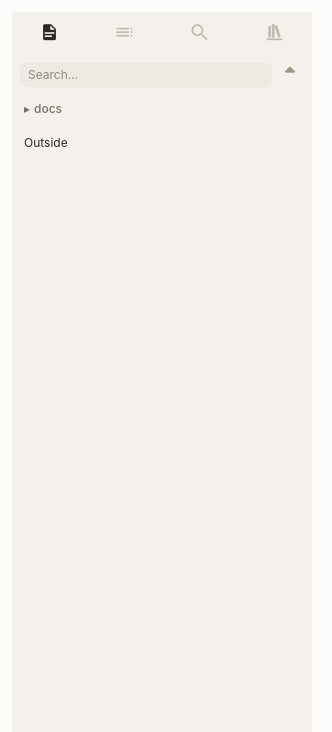
it: Sidebar virtualization › folder collapse hides children from DOM
Expected: the text "Inside Doc" is not shown
Expected: the button "Outside" is shown, [16, 131, 308, 155]
What coordinates should you click on to do the following:
click the text "docs"
I would click on:
 (48, 109)
Its box is [34, 101, 62, 117].
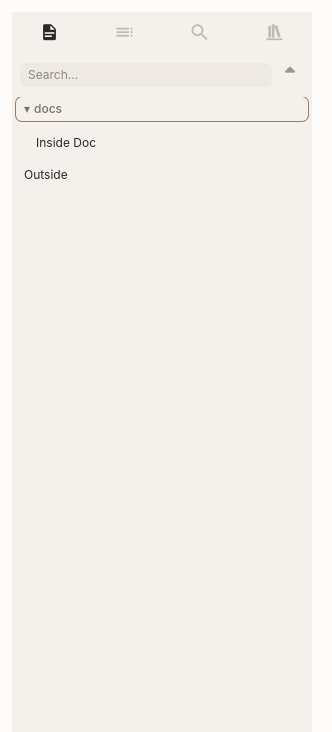
Expected: the button "Inside Doc" is shown, [16, 131, 308, 155]
